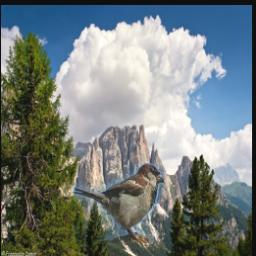Sparrow: (74, 164, 165, 244)
